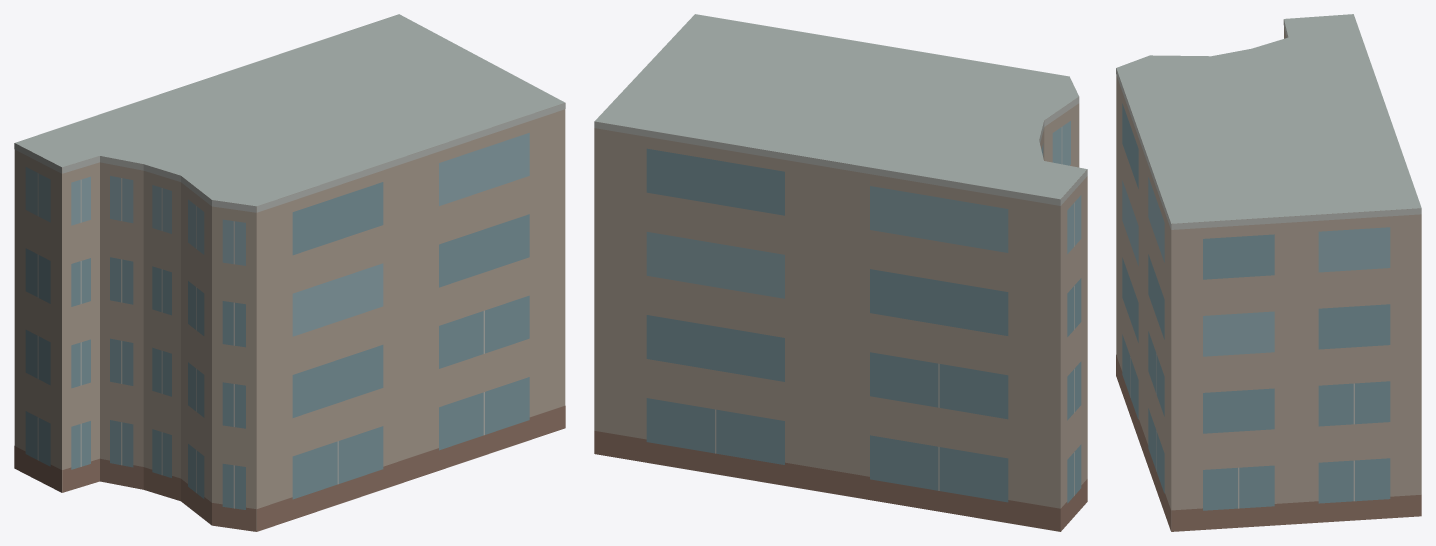
The model's file is survey-upis-32712664.glb.
The picture shows the model from 3 angles, left to right: view 1: azimuth 30°, elevation 25°; view 2: azimuth 150°, elevation 25°; view 3: azimuth 270°, elevation 25°; orthographic projection. The views are drawn at different scales.
Visible parts, largest first — view 1: survey-upis-32712664.tmp; view 2: survey-upis-32712664.tmp; view 3: survey-upis-32712664.tmp.
Part boxes in pixels (<box>): survey-upis-32712664.tmp: <box>14,14,565,531</box>; survey-upis-32712664.tmp: <box>594,14,1087,531</box>; survey-upis-32712664.tmp: <box>1116,14,1421,531</box>.
Bounding box in the file's own units: 17.83 × 12.2 × 10.98.
